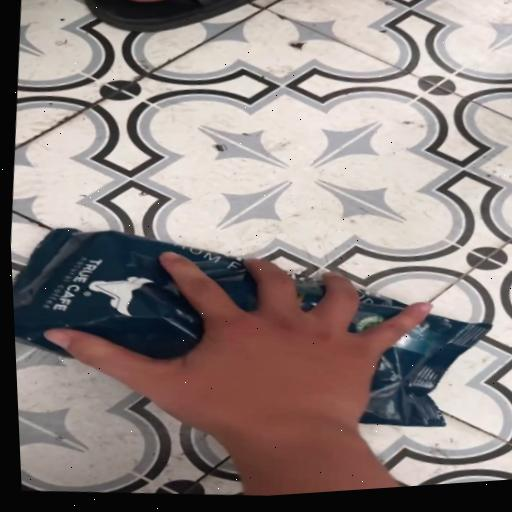cafe_hat: (13, 228, 256, 359), (362, 315, 490, 426), (348, 292, 405, 332)
